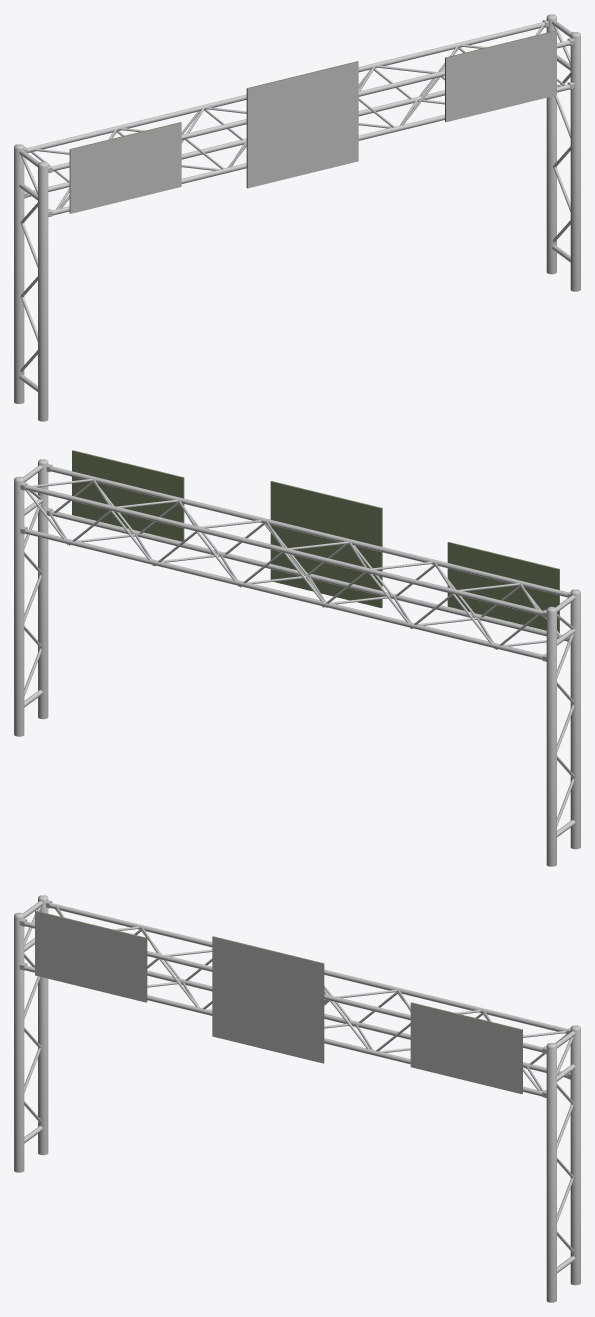
Rendered from SM_Props_TrafficSign_01.FBX.
3 renders of one model, top to bottom at view 1: azimuth 30°, elevation 25°; view 2: azimuth 150°, elevation 25°; view 3: azimuth 330°, elevation 25°, orthographic.
Visible parts, largest first — view 1: SM_Props_TrafficSign_01_LOD0; view 2: SM_Props_TrafficSign_01_LOD0; view 3: SM_Props_TrafficSign_01_LOD0.
Part boxes in pixels (bbox=[...]): SM_Props_TrafficSign_01_LOD0: bbox=[14, 14, 580, 421]; SM_Props_TrafficSign_01_LOD0: bbox=[14, 450, 580, 866]; SM_Props_TrafficSign_01_LOD0: bbox=[14, 895, 580, 1302].
Size of what is drawn, in the model's own units: 23.61 by 11.92 by 2.43.
